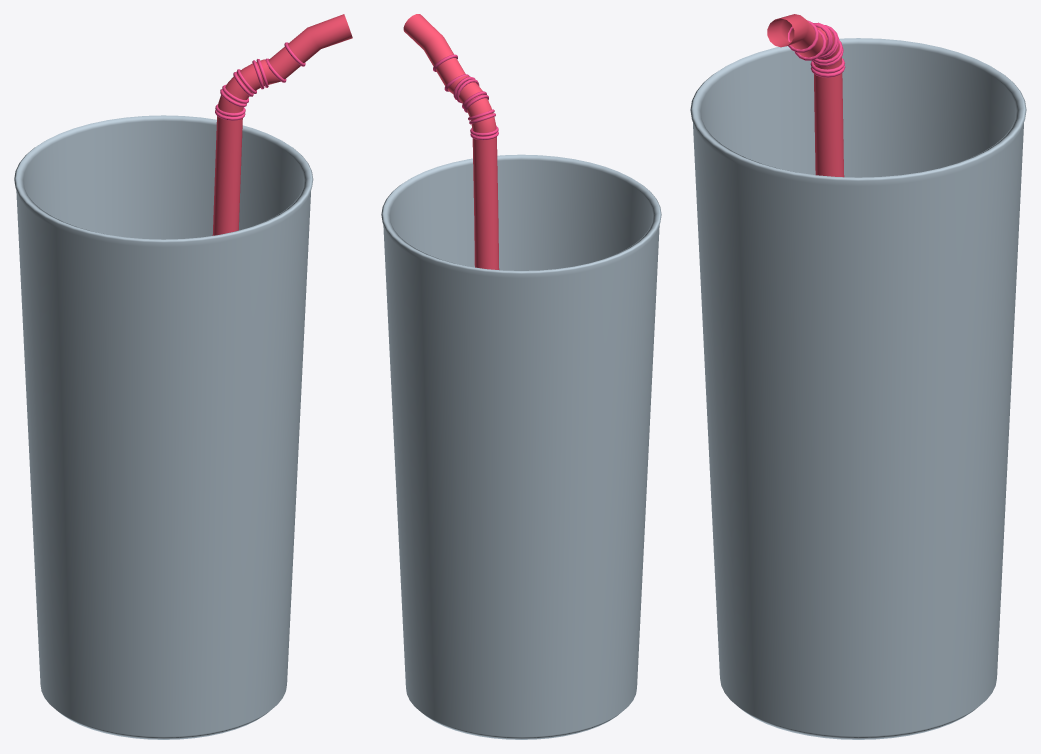
The model's file is MilkGlass.obj.
3 renders of one model, left to right at view 1: azimuth 30°, elevation 25°; view 2: azimuth 150°, elevation 25°; view 3: azimuth 270°, elevation 25°, orthographic. The views are drawn at different scales.
Parts seen in each view (by area): view 1: Glass, Straw, Stripes; view 2: Glass, Straw, Stripes; view 3: Glass, Straw, Stripes.
Boxes of the visible parts, <box> form: Glass: <box>14,115,313,739</box>; Straw: <box>212,14,352,235</box>; Stripes: <box>215,42,305,120</box>; Glass: <box>381,154,661,739</box>; Straw: <box>403,14,499,269</box>; Stripes: <box>433,54,498,140</box>; Glass: <box>690,38,1026,739</box>; Straw: <box>767,14,844,177</box>; Stripes: <box>788,20,845,77</box>.
Bounding box in the file's own units: 12.13 × 27.06 × 11.04.
